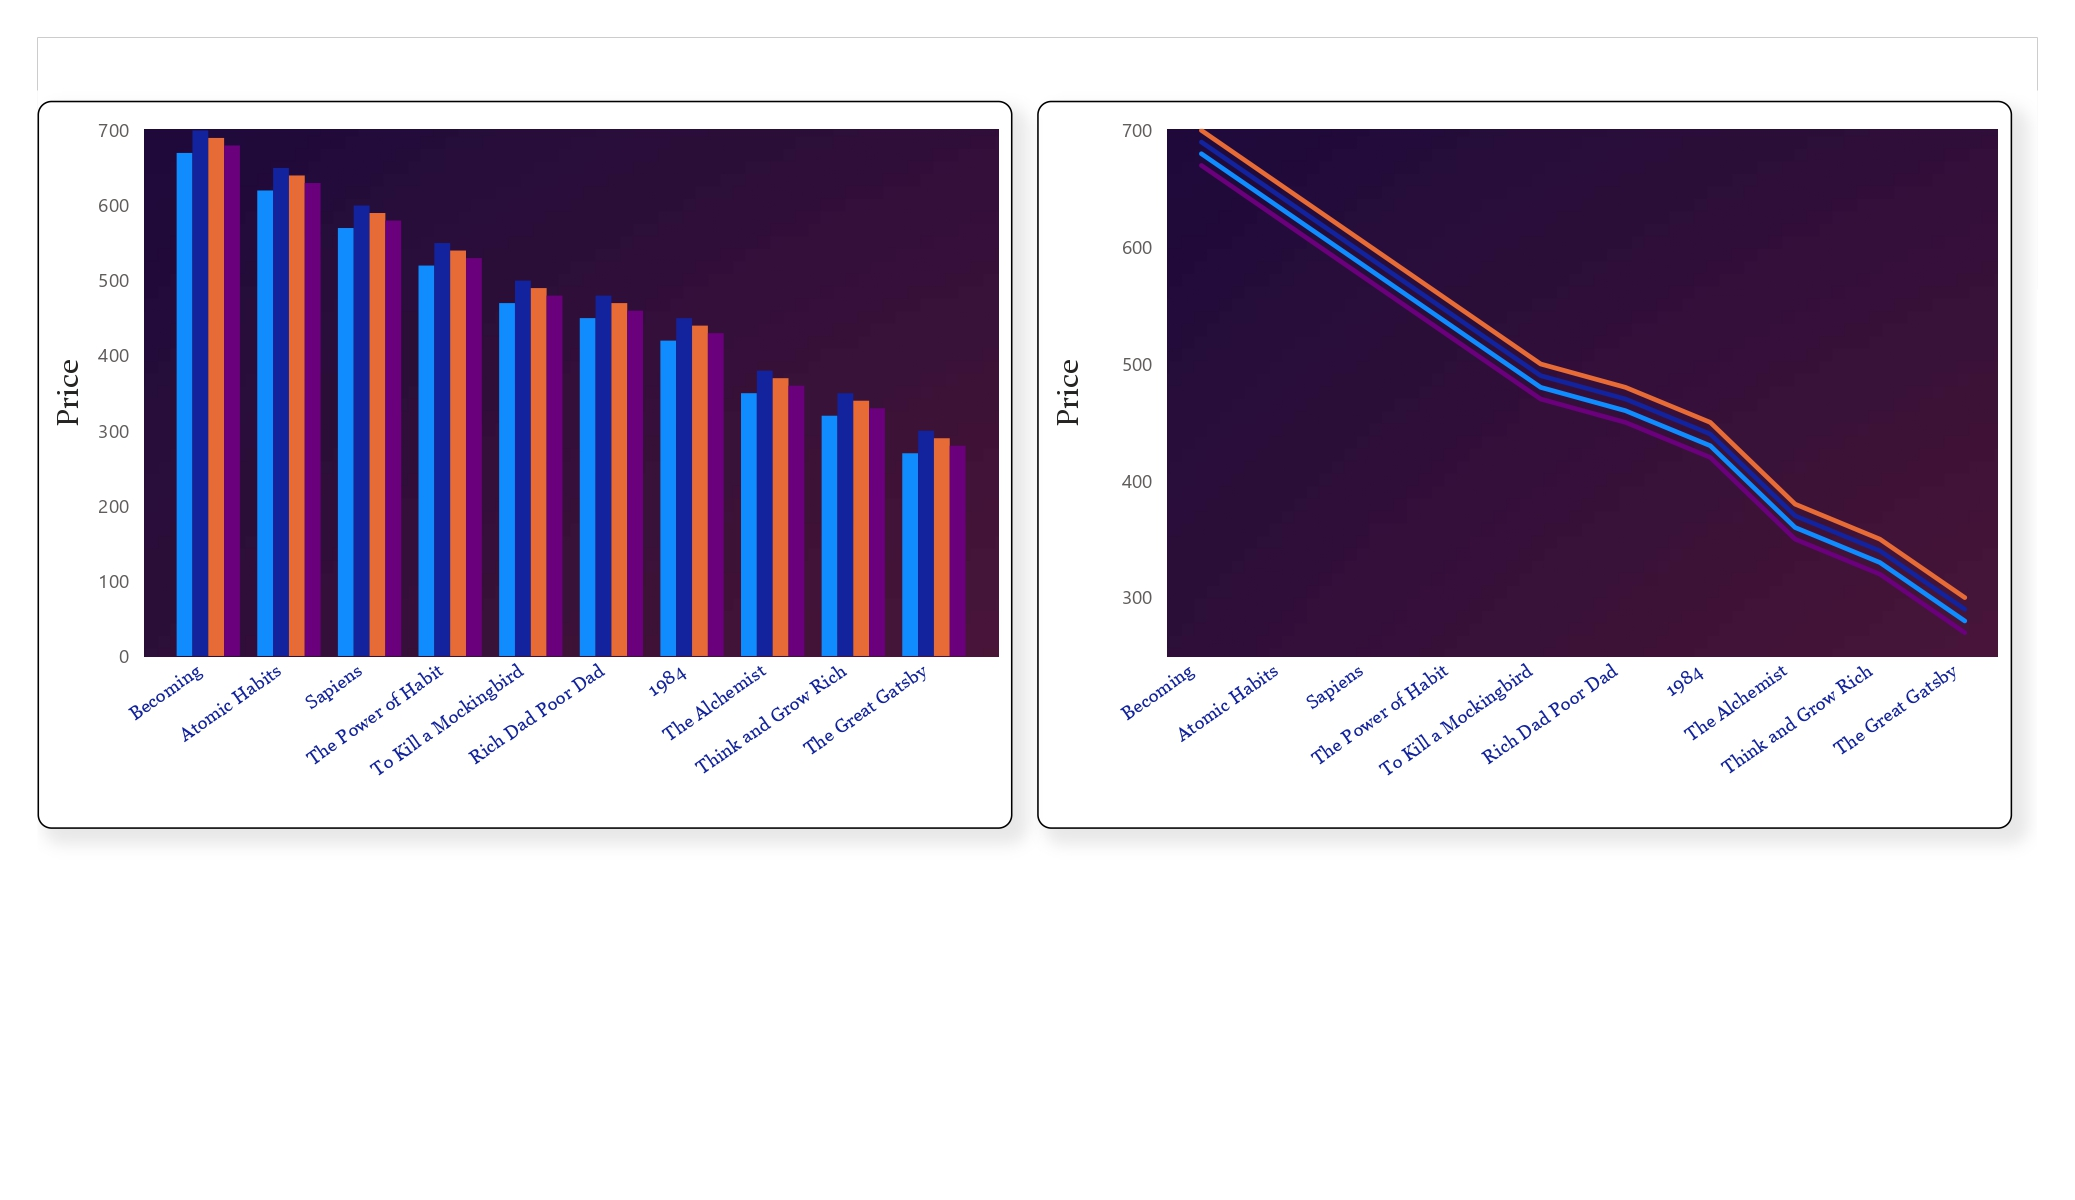

Layout of this report page (visuals, bound fields, positions):
{"tool":"powerbi","page":{"name":"Page 1","canvas":[1280,720],"ordinal":0},"visuals":[{"type":"clusteredColumnChart","fields":{"Category":["ecommerce_product_prices_1.ProductName"],"Y":["ecommerce_product_prices_1.Price_BoiBazar","ecommerce_product_prices_1.Price_Rokomari","ecommerce_product_prices_1.Price_Wafilife","ecommerce_product_prices_1.Price_MamunBookHouse"]},"box":[0,40.5,624.4,466.3],"z":0},{"type":"lineChart","fields":{"Category":["ecommerce_product_prices_1.ProductName"],"Y":["ecommerce_product_prices_1.Price_MamunBookHouse","ecommerce_product_prices_1.Price_Wafilife","ecommerce_product_prices_1.Price_Rokomari","ecommerce_product_prices_1.Price_BoiBazar"]},"box":[639.8,40.5,624.4,466.3],"z":1000}]}

Visuals, with their boxes on the page's 1280x720 design canvas (x1, y1, x2, y2). These are canvas units, not pixel positions in the 2075x1200 screenshot, which may show the page scaled, cropped or inside an application window:
clusteredColumnChart - ecommerce_product_prices_1.ProductName x ecommerce_product_prices_1.Price_BoiBazar: (left=0, top=40, right=624, bottom=507)
lineChart - ecommerce_product_prices_1.ProductName x ecommerce_product_prices_1.Price_MamunBookHouse: (left=640, top=40, right=1264, bottom=507)
